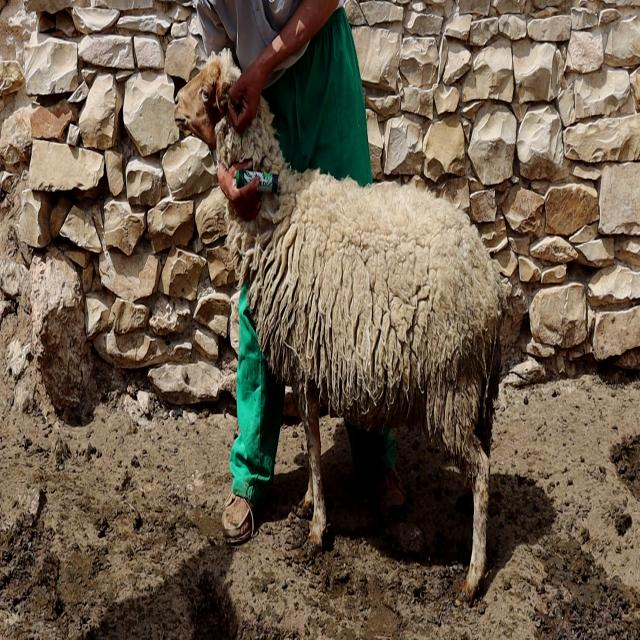Score_3: (174, 52, 504, 598)
